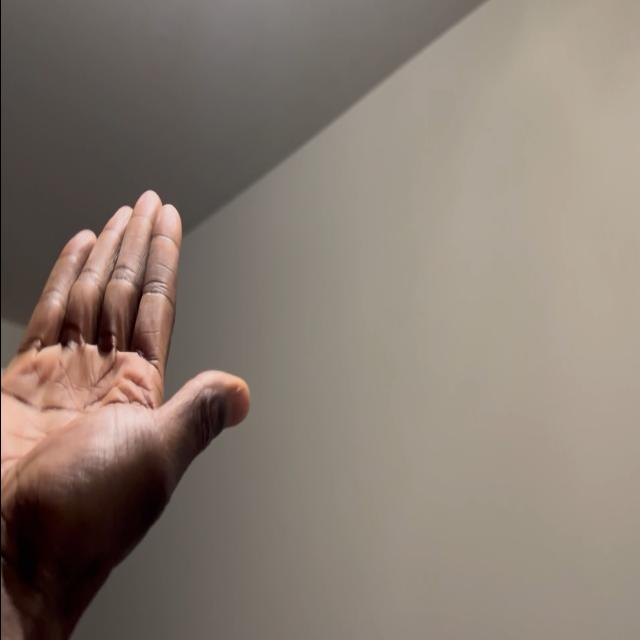Paper: (0, 184, 251, 610)
